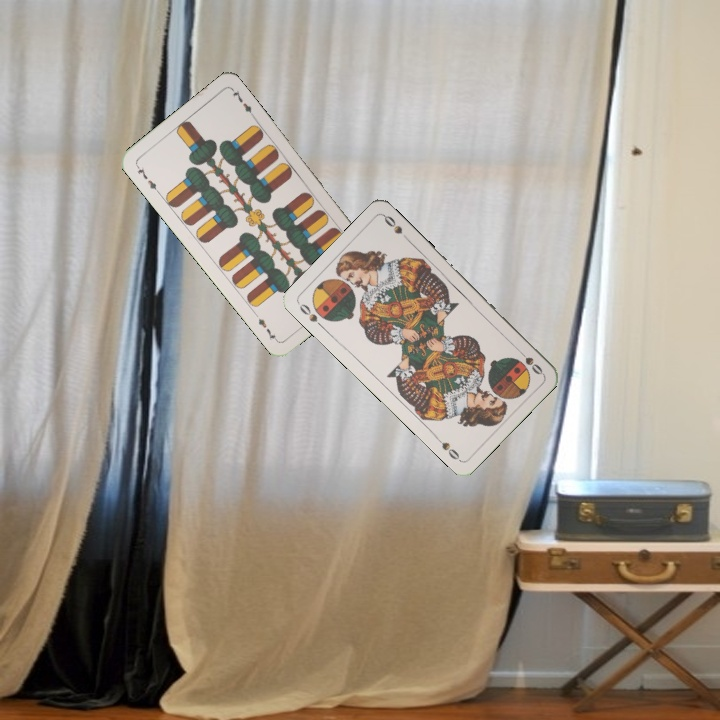E7: (132, 161, 161, 196)
SO: (513, 345, 545, 377), (295, 299, 327, 331)
